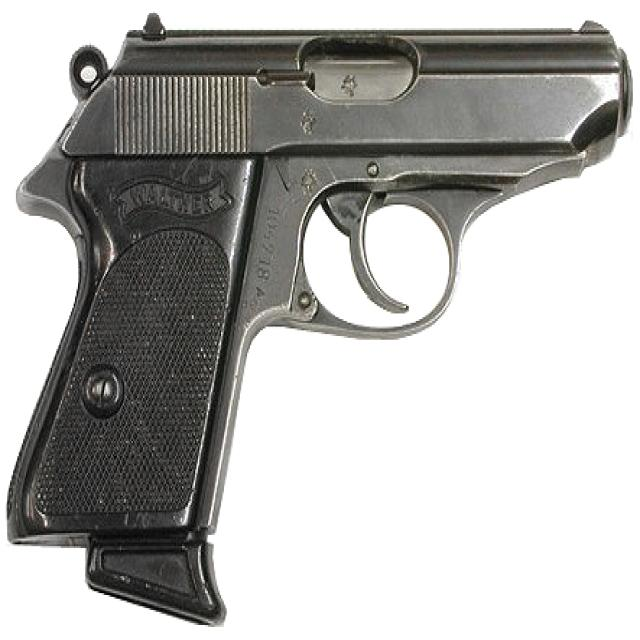gun: (4, 19, 633, 625)
